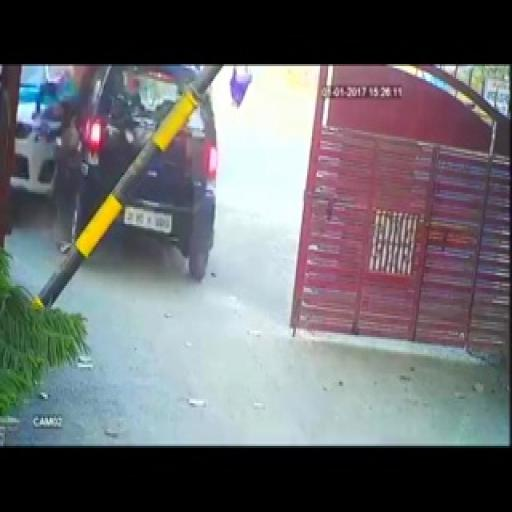Car: (64, 67, 212, 285), (0, 66, 66, 212)
Major Accident: (0, 66, 218, 286)
